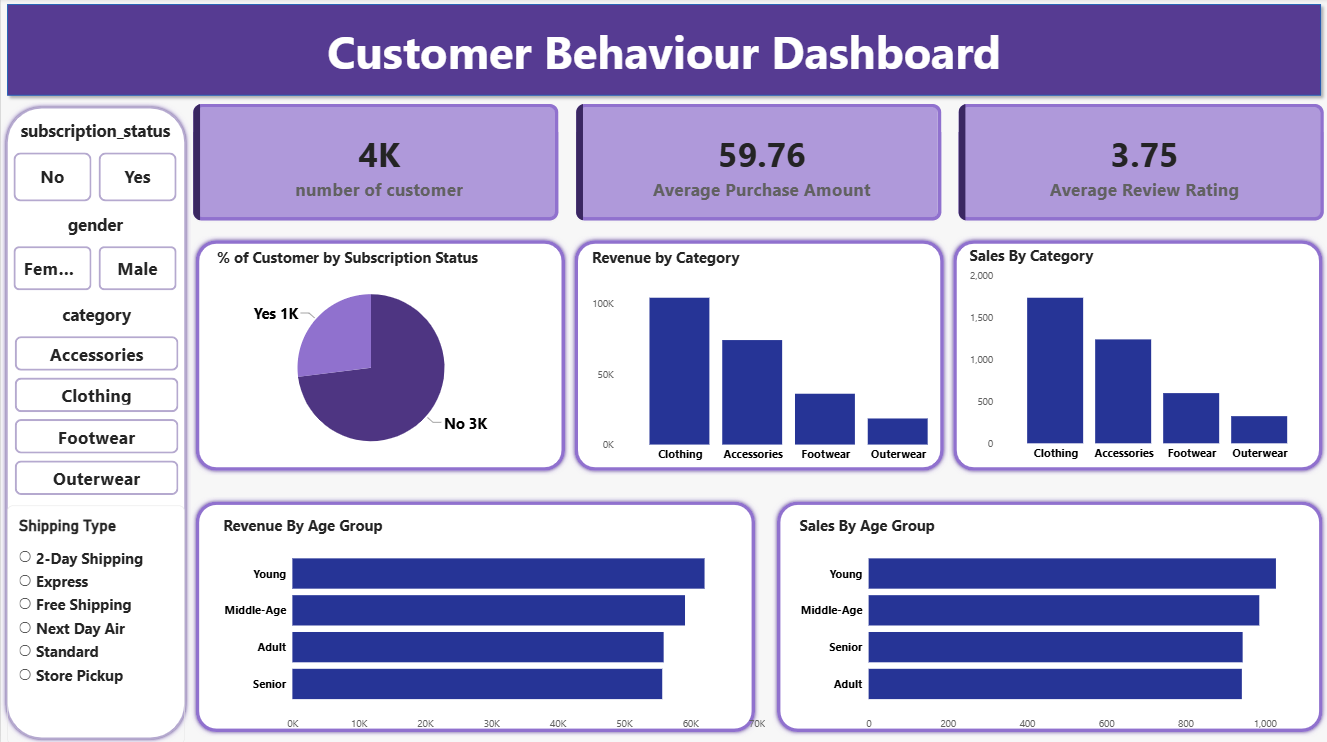

The page's visual inventory and layout, read from the dashboard file:
{"tool":"powerbi","page":{"name":"Page 1","canvas":[1920,1080],"ordinal":0},"visuals":[{"type":"cardVisual","fields":{"Data":["customer_behavior customer.number of customer","customer_behavior customer.Average Purchase Amount","customer_behavior customer.Average Review Rating"]},"box":[275.1,150.2,1645,175.5],"z":0},{"type":"shape","box":[0,0,1920.1,150.2],"z":1000},{"type":"shape","box":[275.1,343.8,548.3,347.5],"z":2000},{"type":"shape","box":[823.4,343.8,548.3,347.5],"z":3000},{"type":"shape","box":[1371.7,343.8,548.3,347.5],"z":4000},{"type":"pieChart","title":"% of Customer by Subscription Status","fields":{"Category":["customer_behavior customer.subscription_status"],"Y":["customer_behavior customer.number of customer"]},"box":[296.8,345.6,477.8,347.5],"z":5000},{"type":"clusteredColumnChart","title":"Revenue by Category","fields":{"Category":["customer_behavior customer.category"],"Y":["Sum(customer_behavior customer.purchase_amount)"]},"box":[839.7,345.6,562.8,347.5],"z":6000},{"type":"clusteredColumnChart","title":"Sales By Category","fields":{"Category":["customer_behavior customer.category"],"Y":["CountNonNull(customer_behavior customer.customer_id)"]},"box":[1386.2,343.8,533.8,347.5],"z":7000},{"type":"shape","box":[0,150.2,275.1,930.2],"z":8000},{"type":"advancedSlicerVisual","fields":{"Values":["customer_behavior customer.subscription_status"]},"box":[18.1,175.5,237.1,119.4],"z":9000},{"type":"advancedSlicerVisual","fields":{"Values":["customer_behavior customer.gender"]},"box":[18.1,311.3,237.1,112.2],"z":10000},{"type":"advancedSlicerVisual","fields":{"Values":["customer_behavior customer.category"]},"box":[19.9,441.6,237.1,280.5],"z":11000},{"type":"listSlicer","title":"Shipping Type","fields":{"Values":["customer_behavior customer.shipping_type"]},"box":[9,734.7,257,345.6],"z":12000},{"type":"shape","box":[275.1,722.1,823.4,347.5],"z":13001},{"type":"shape","box":[1116.6,722.1,803.5,347.5],"z":13003},{"type":"clusteredBarChart","title":"Revenue By Age Group","fields":{"Category":["customer_behavior customer.age_group"],"Y":["Sum(customer_behavior customer.purchase_amount)"]},"box":[305.8,734.7,816.2,345.6],"z":13004},{"type":"clusteredBarChart","title":"Sales By Age Group","fields":{"Category":["customer_behavior customer.age_group"],"Y":["CountNonNull(customer_behavior customer.customer_id)"]},"box":[1140.1,734.7,780,345.6],"z":13005}]}

Visuals, with their boxes in screenshot pixels (x1, y1, x2, y2), scaled from the page's 1920x1080 canvas onto the 1327x742 screenshot:
cardVisual - customer_behavior customer.number of customer x customer_behavior customer.Average Purchase Amount: x1=190 y1=103 x2=1326 y2=224
shape: x1=0 y1=0 x2=1326 y2=103
shape: x1=190 y1=236 x2=569 y2=475
shape: x1=569 y1=236 x2=948 y2=475
shape: x1=948 y1=236 x2=1326 y2=475
"% of Customer by Subscription Status" pieChart: x1=205 y1=237 x2=535 y2=476
"Revenue by Category" clusteredColumnChart: x1=580 y1=237 x2=969 y2=476
"Sales By Category" clusteredColumnChart: x1=958 y1=236 x2=1326 y2=475
shape: x1=0 y1=103 x2=190 y2=741
advancedSlicerVisual - customer_behavior customer.subscription_status: x1=13 y1=121 x2=176 y2=203
advancedSlicerVisual - customer_behavior customer.gender: x1=13 y1=214 x2=176 y2=291
advancedSlicerVisual - customer_behavior customer.category: x1=14 y1=303 x2=178 y2=496
"Shipping Type" listSlicer: x1=6 y1=505 x2=184 y2=741
shape: x1=190 y1=496 x2=759 y2=735
shape: x1=772 y1=496 x2=1326 y2=735
"Revenue By Age Group" clusteredBarChart: x1=211 y1=505 x2=775 y2=741
"Sales By Age Group" clusteredBarChart: x1=788 y1=505 x2=1326 y2=741
